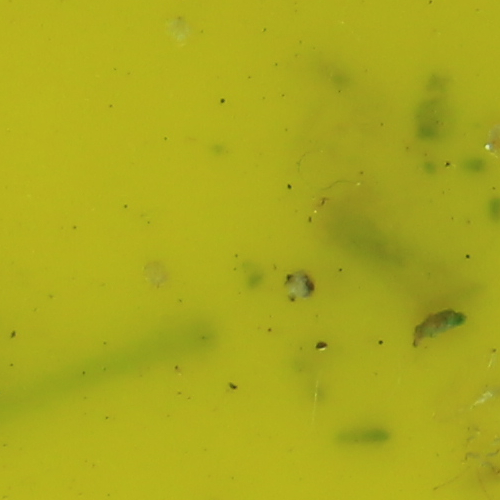psylla: (413, 309, 471, 350)
